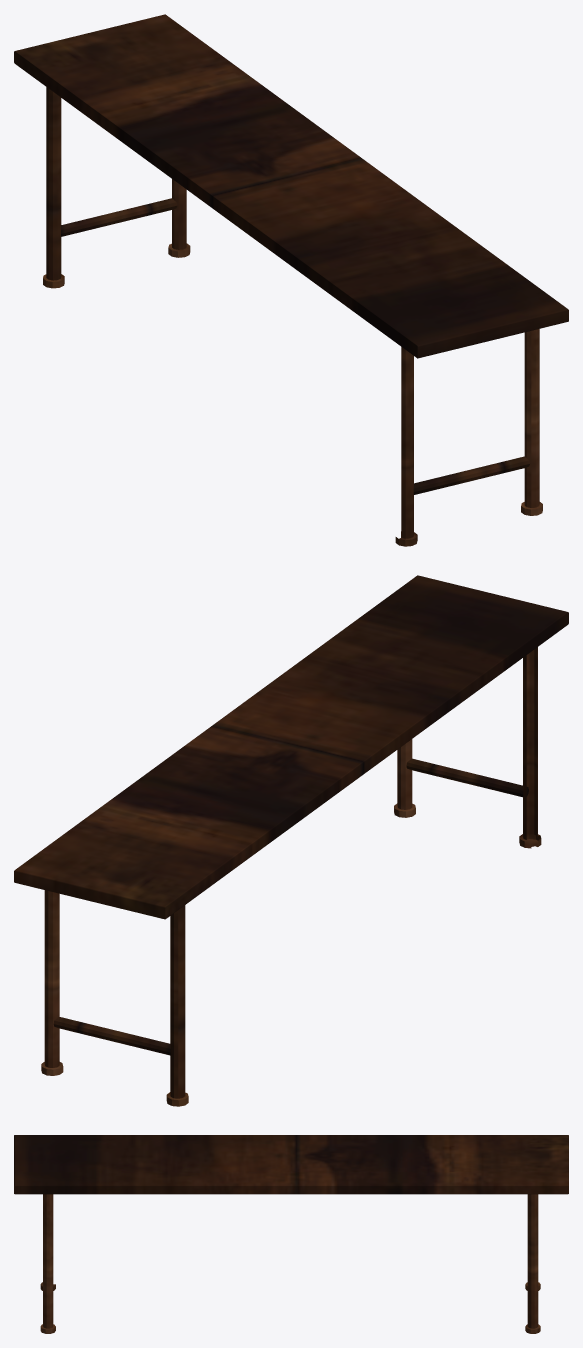
Rendered from sillas.obj.
The picture shows the model from 3 angles, top to bottom: view 1: azimuth 30°, elevation 25°; view 2: azimuth 150°, elevation 25°; view 3: azimuth 270°, elevation 25°; orthographic projection. The views are drawn at different scales.
Visible parts, largest first — view 1: Objects; view 2: Objects; view 3: Objects.
Part boxes in pixels (box(x1,y1,x2,y2)): Objects: box(14, 14, 568, 546); Objects: box(14, 575, 568, 1106); Objects: box(14, 1135, 568, 1333).
Size of the model in its own units: 31.21 by 42.88 by 144.
Materials: 1 (1 with a texture image).
